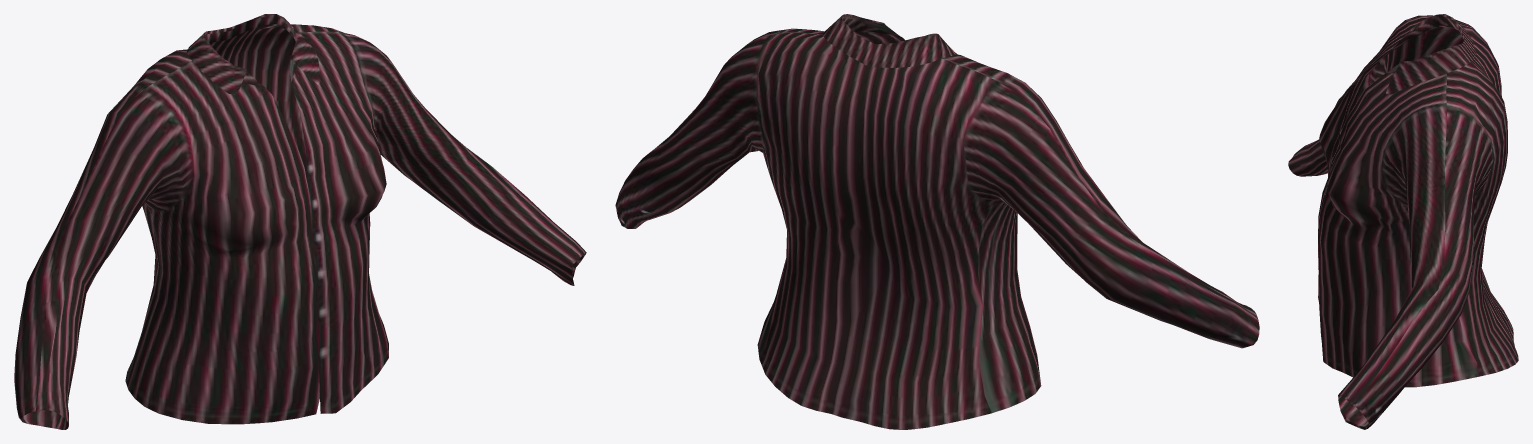
Rendered from blouse_seller.glb.
3 renders of one model, left to right at view 1: azimuth 30°, elevation 25°; view 2: azimuth 150°, elevation 25°; view 3: azimuth 270°, elevation 25°, orthographic. The views are drawn at different scales.
Visible parts, largest first — view 1: blouse_seller_out; view 2: blouse_seller_out; view 3: blouse_seller_out.
Boxes of the visible parts, left/top/right/bottom form: blouse_seller_out: left=14, top=14, right=586, bottom=429; blouse_seller_out: left=615, top=14, right=1259, bottom=429; blouse_seller_out: left=1288, top=14, right=1518, bottom=429.
Bounding box in the file's own units: 935 × 530 × 347.
1 material, 1 textured.
